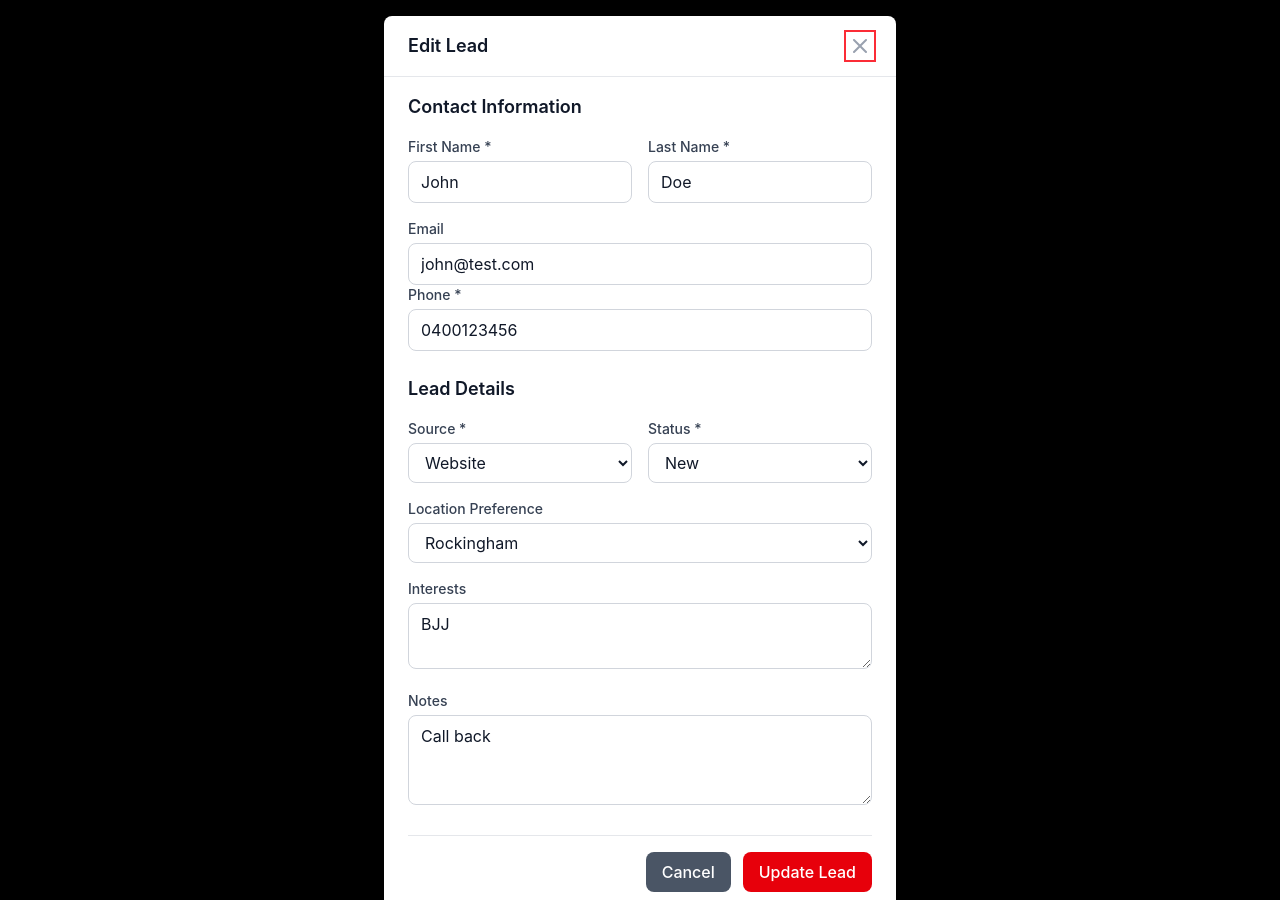
Test: EditLeadModal › disables button while updating
What coordinates should you click on to do the following:
click the button "Update Lead"
I would click on:
 (807, 872)
Its box is [743,852,872,892].
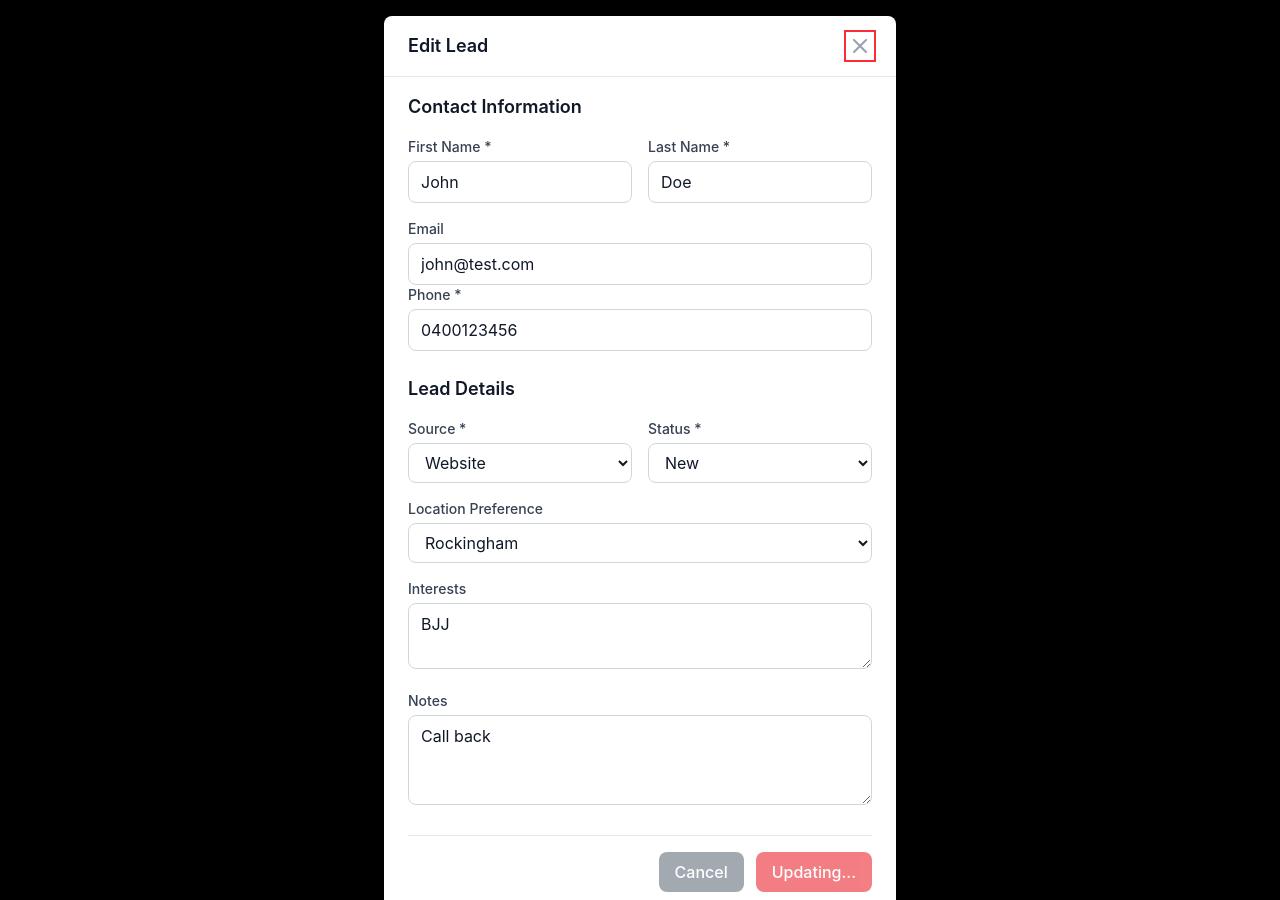
Result: the button "Updating..." is disabled at [756,852,872,892]
